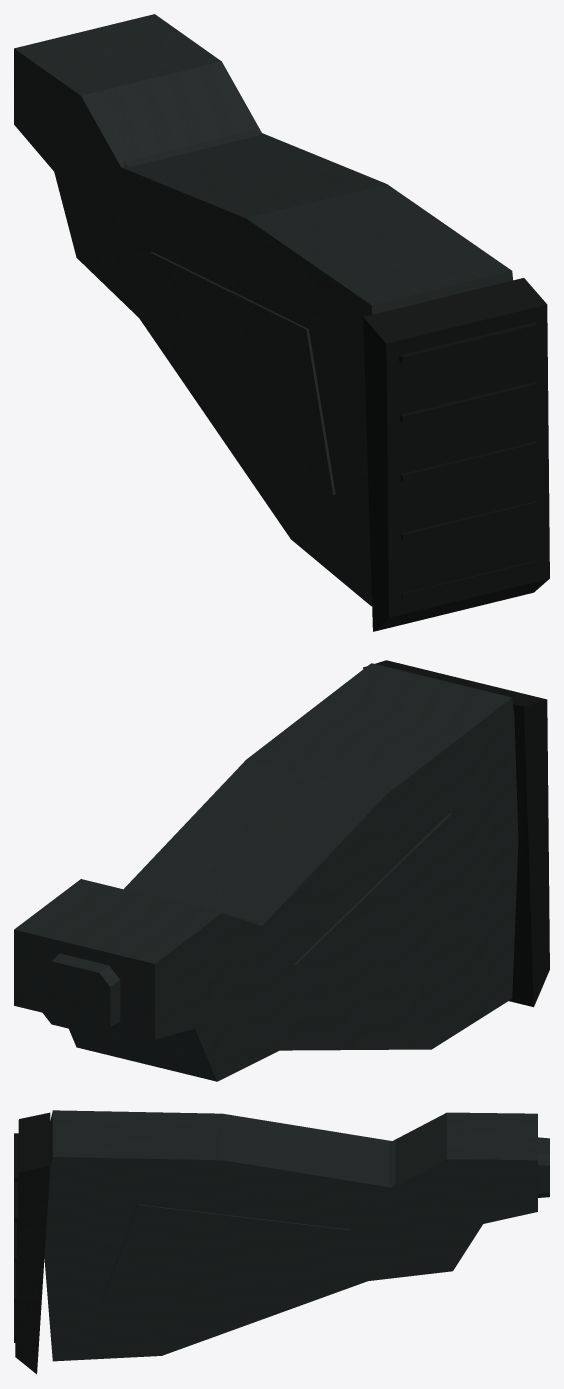
Rendered from sg_rubber.glb.
3 renders of one model, top to bottom at view 1: azimuth 30°, elevation 25°; view 2: azimuth 150°, elevation 25°; view 3: azimuth 270°, elevation 25°, orthographic. The views are drawn at different scales.
Parts seen in each view (by area): view 1: stock__sg_rubber_LOD0_RAID_Secondary_Original_polymer, stock__sg_rubber_LOD1_RAID_Secondary_Original_polymer, stock__sg_rubber_LOD1_RAID_Secondary_Original_rubber, stock__sg_rubber_LOD0_RAID_Secondary_Original_rubber; view 2: stock__sg_rubber_LOD0_RAID_Secondary_Original_polymer, stock__sg_rubber_LOD1_RAID_Secondary_Original_polymer, stock__sg_rubber_LOD0_RAID_Secondary_Original_rubber, stock__sg_rubber_LOD1_RAID_Secondary_Original_rubber; view 3: stock__sg_rubber_LOD0_RAID_Secondary_Original_polymer, stock__sg_rubber_LOD1_RAID_Secondary_Original_polymer, stock__sg_rubber_LOD0_RAID_Secondary_Original_rubber, stock__sg_rubber_LOD1_RAID_Secondary_Original_rubber.
Boxes of the visible parts, x1,y1,x2,y2 form: stock__sg_rubber_LOD0_RAID_Secondary_Original_polymer: (16,17,508,598); stock__sg_rubber_LOD1_RAID_Secondary_Original_polymer: (14,14,512,606); stock__sg_rubber_LOD1_RAID_Secondary_Original_rubber: (363,278,549,631); stock__sg_rubber_LOD0_RAID_Secondary_Original_rubber: (363,280,546,630); stock__sg_rubber_LOD0_RAID_Secondary_Original_polymer: (18,666,517,1077); stock__sg_rubber_LOD1_RAID_Secondary_Original_polymer: (14,663,518,1081); stock__sg_rubber_LOD0_RAID_Secondary_Original_rubber: (377,661,547,1003); stock__sg_rubber_LOD1_RAID_Secondary_Original_rubber: (363,660,549,1007); stock__sg_rubber_LOD0_RAID_Secondary_Original_polymer: (46,1112,549,1334); stock__sg_rubber_LOD1_RAID_Secondary_Original_polymer: (44,1110,537,1361); stock__sg_rubber_LOD0_RAID_Secondary_Original_rubber: (14,1113,49,1371); stock__sg_rubber_LOD1_RAID_Secondary_Original_rubber: (15,1112,50,1374).
Size of the model in its own units: 0.104 by 0.195 by 0.442.
2 materials, 2 textured.
